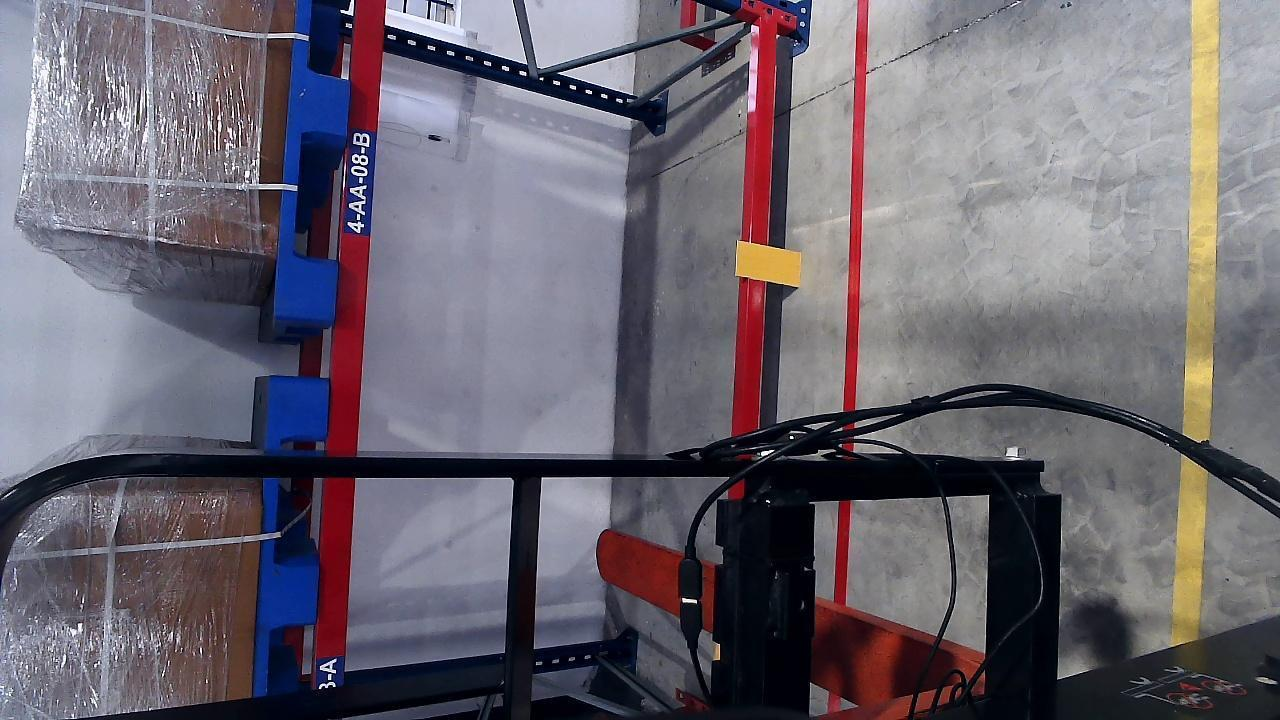red_line: (842, 3, 868, 412)
yellow_line: (1173, 0, 1221, 638)
